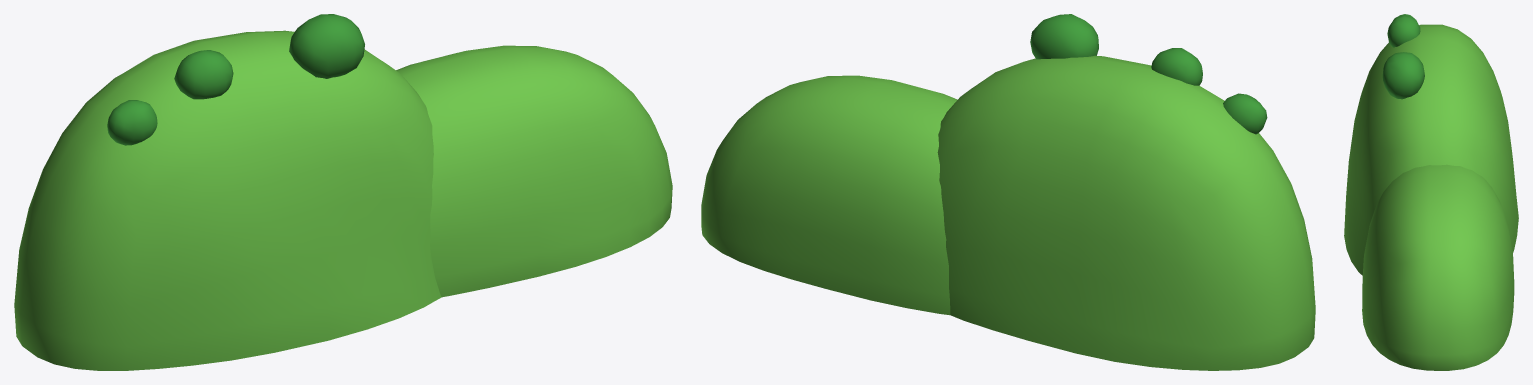
The model's file is hill_b.glb.
The picture shows the model from 3 angles, left to right: view 1: azimuth 30°, elevation 25°; view 2: azimuth 150°, elevation 25°; view 3: azimuth 270°, elevation 25°; orthographic projection. The views are drawn at different scales.
Parts seen in each view (by area): view 1: hill_b; view 2: hill_b; view 3: hill_b.
Boxes of the visible parts, box(x1,y1,x2,y2) form: hill_b: box(14, 14, 672, 370); hill_b: box(701, 14, 1315, 370); hill_b: box(1344, 14, 1518, 370).
Size of the model in its own units: 24.08 by 10.2 by 8.26.
